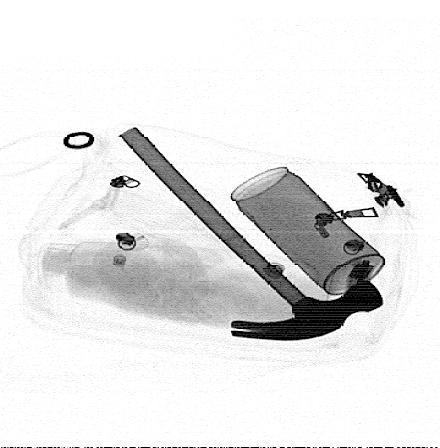Hammer: (117, 126, 385, 341)
